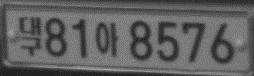1: (70, 17, 94, 58)
5: (156, 20, 179, 62)
6: (210, 22, 234, 64)
7: (182, 22, 205, 62)
8: (44, 17, 67, 58), (129, 18, 152, 59)
대구_V: (18, 15, 42, 56)
아: (95, 21, 119, 56)
